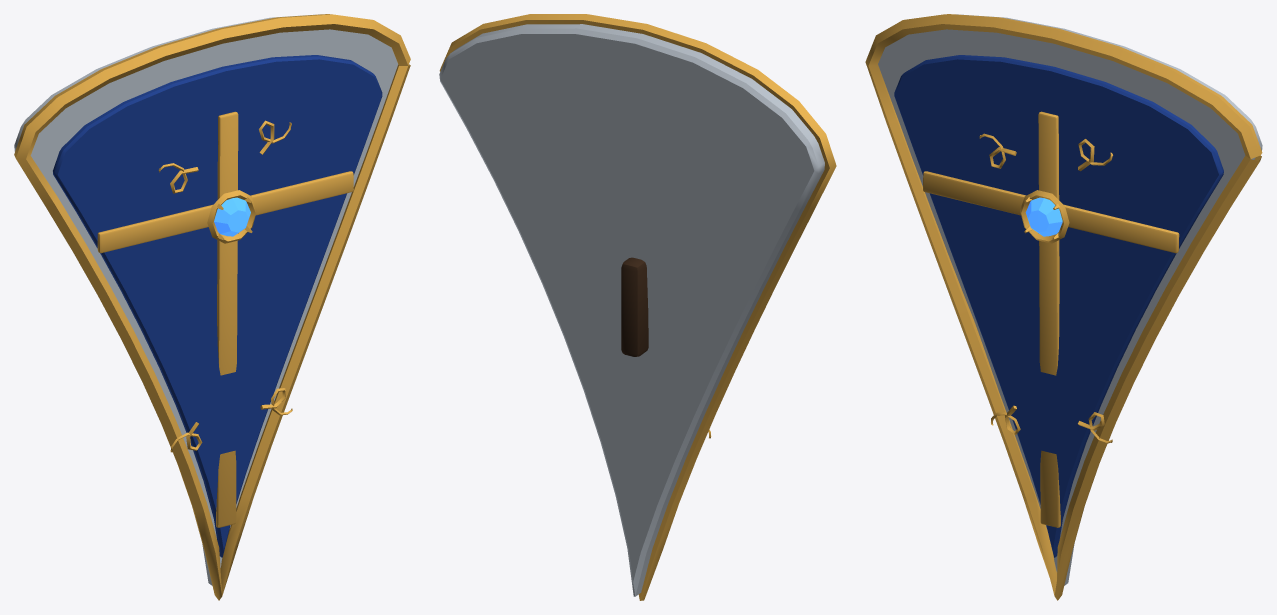
The model's file is shield_knight.glb.
3 renders of one model, left to right at view 1: azimuth 30°, elevation 25°; view 2: azimuth 150°, elevation 25°; view 3: azimuth 330°, elevation 25°, orthographic.
Parts seen in each view (by area): view 1: shield_knight; view 2: shield_knight; view 3: shield_knight.
Part boxes in pixels (left/top/right/bottom): shield_knight: left=14, top=14, right=410, bottom=600; shield_knight: left=439, top=14, right=836, bottom=600; shield_knight: left=865, top=14, right=1262, bottom=600.
Bounding box in the file's own units: 0.6202 × 0.8609 × 0.0986.
